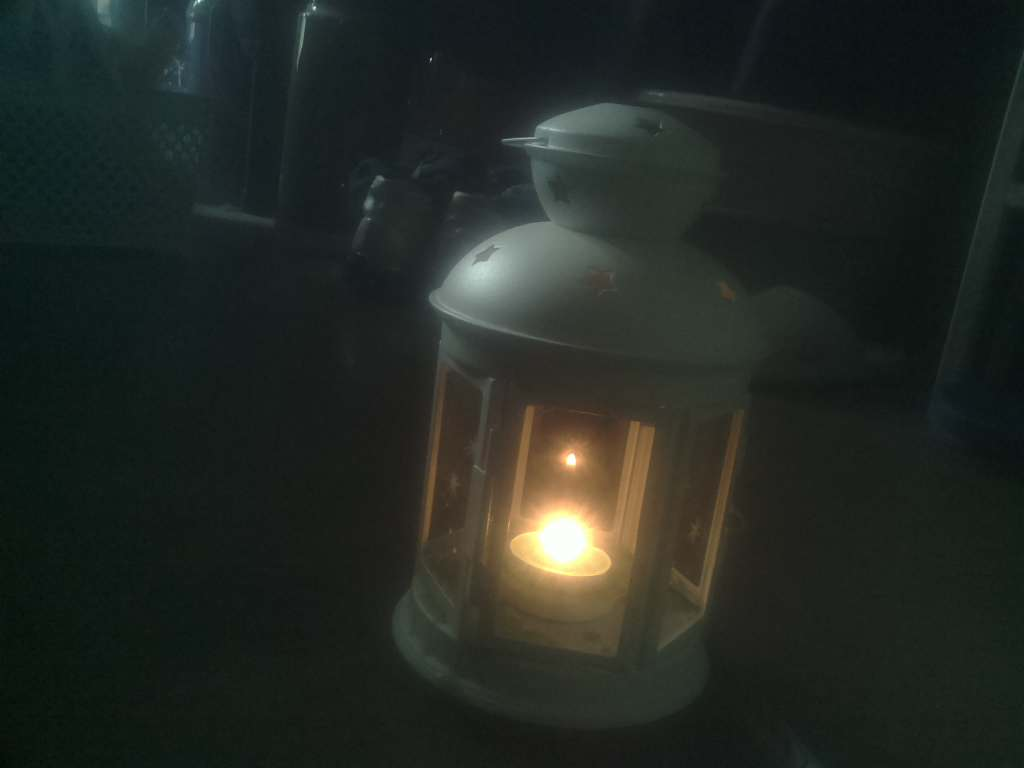fire: (512, 495, 617, 596)
